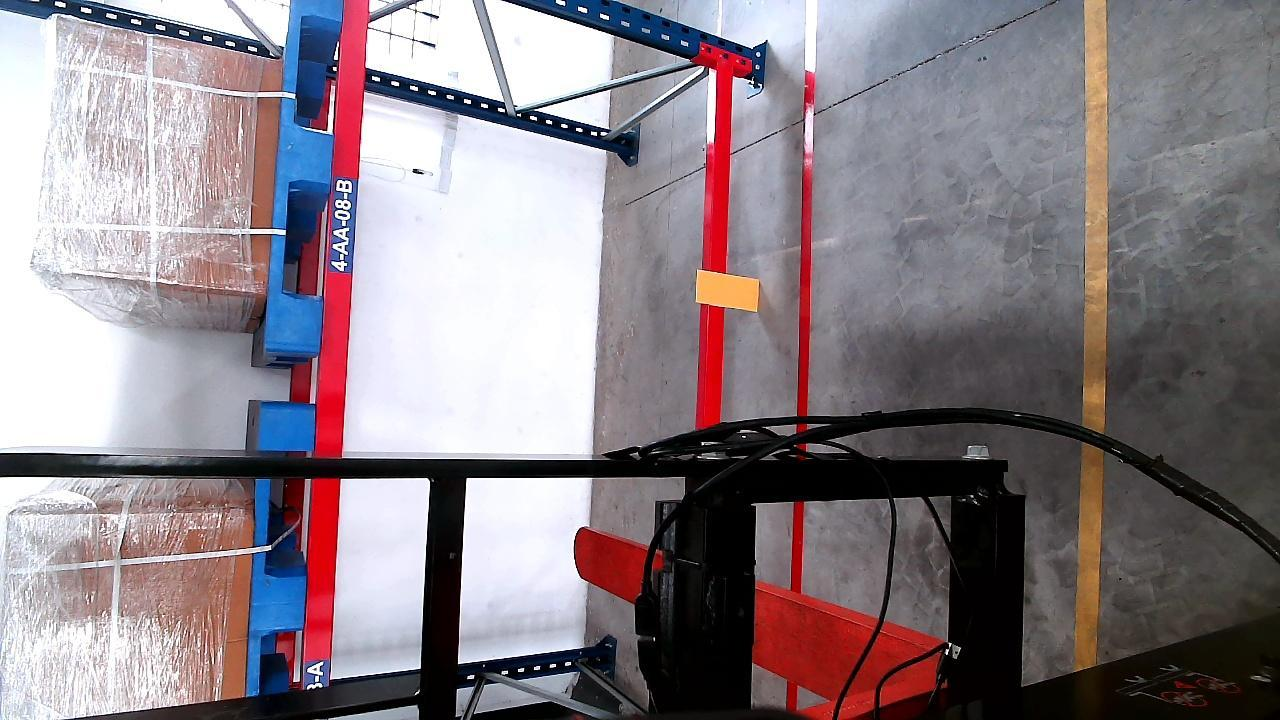red_line: (791, 0, 817, 591)
yellow_line: (1077, 0, 1105, 670)
